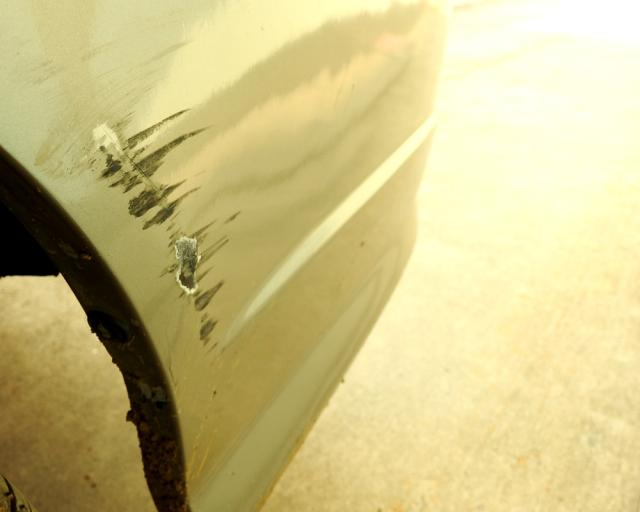scratch: (28, 44, 240, 370)
